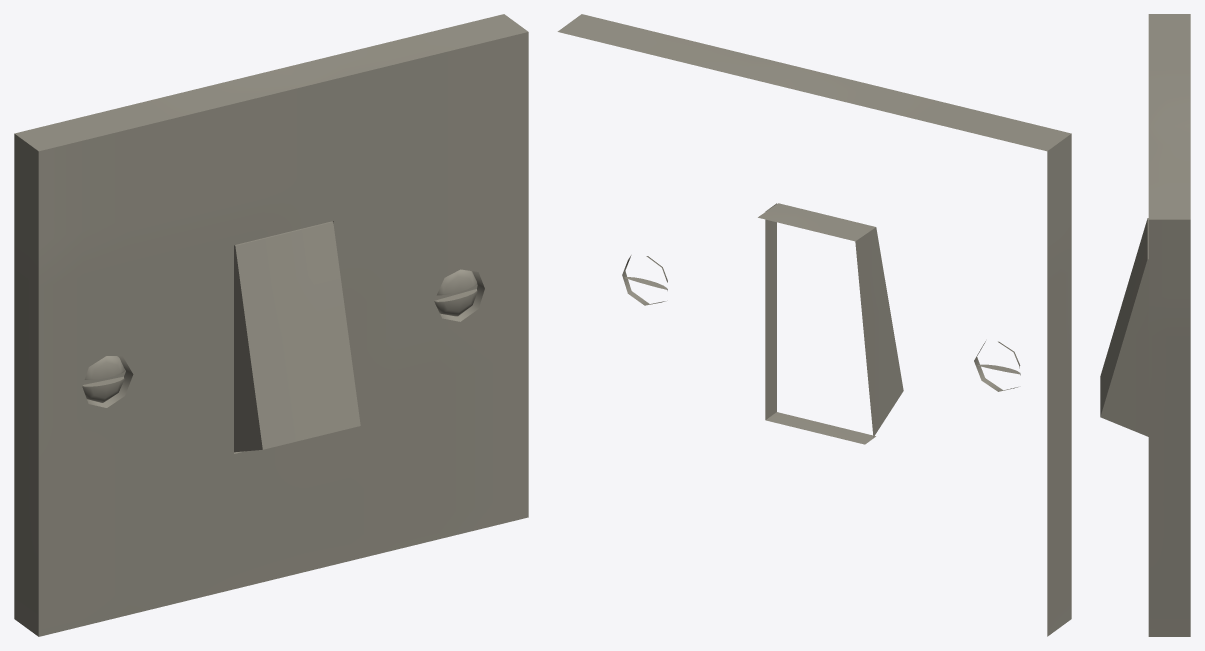
The model's file is light_switch.glb.
The picture shows the model from 3 angles, left to right: view 1: azimuth 30°, elevation 25°; view 2: azimuth 150°, elevation 25°; view 3: azimuth 270°, elevation 25°; orthographic projection. The views are drawn at different scales.
Parts seen in each view (by area): view 1: light_switch; view 2: light_switch; view 3: light_switch.
Part boxes in pixels (x1,y1,x2,y2): light_switch: (14, 14, 528, 636); light_switch: (557, 14, 1071, 636); light_switch: (1100, 14, 1190, 636).
Bounding box in the file's own units: 0.086 × 0.0815 × 0.016.
1 material, 1 textured.
